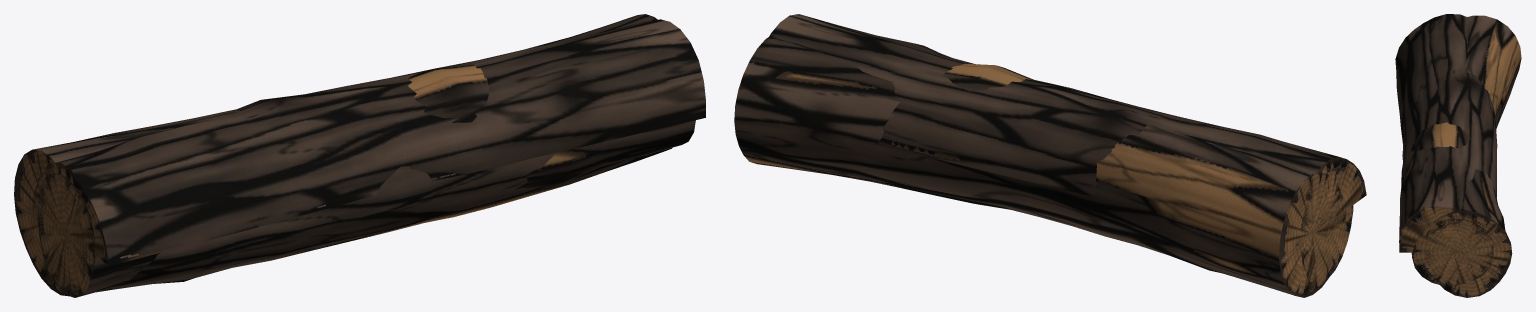
Rendered from log.glb.
3 renders of one model, left to right at view 1: azimuth 30°, elevation 25°; view 2: azimuth 150°, elevation 25°; view 3: azimuth 270°, elevation 25°, orthographic. The views are drawn at different scales.
Visible parts, largest first — view 1: log_03, log_02, log_01; view 2: log_02, log_03, log_01; view 3: log_03, log_02, log_01.
Boxes of the visible parts, x1,y1,x2,y2 form: log_03: (33, 19, 705, 265); log_02: (14, 14, 672, 296); log_01: (37, 120, 695, 297); log_02: (734, 37, 1345, 297); log_03: (769, 14, 1366, 245); log_01: (1301, 168, 1353, 282); log_03: (1395, 14, 1497, 252); log_02: (1402, 15, 1521, 297); log_01: (1411, 218, 1493, 285).
Bounding box in the file's own units: 0.45 × 0.1064 × 0.124.
Materials: 1 (1 with a texture image).
